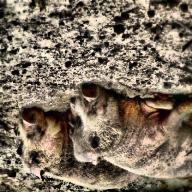boar: (68, 87, 191, 177), (15, 116, 141, 184)
